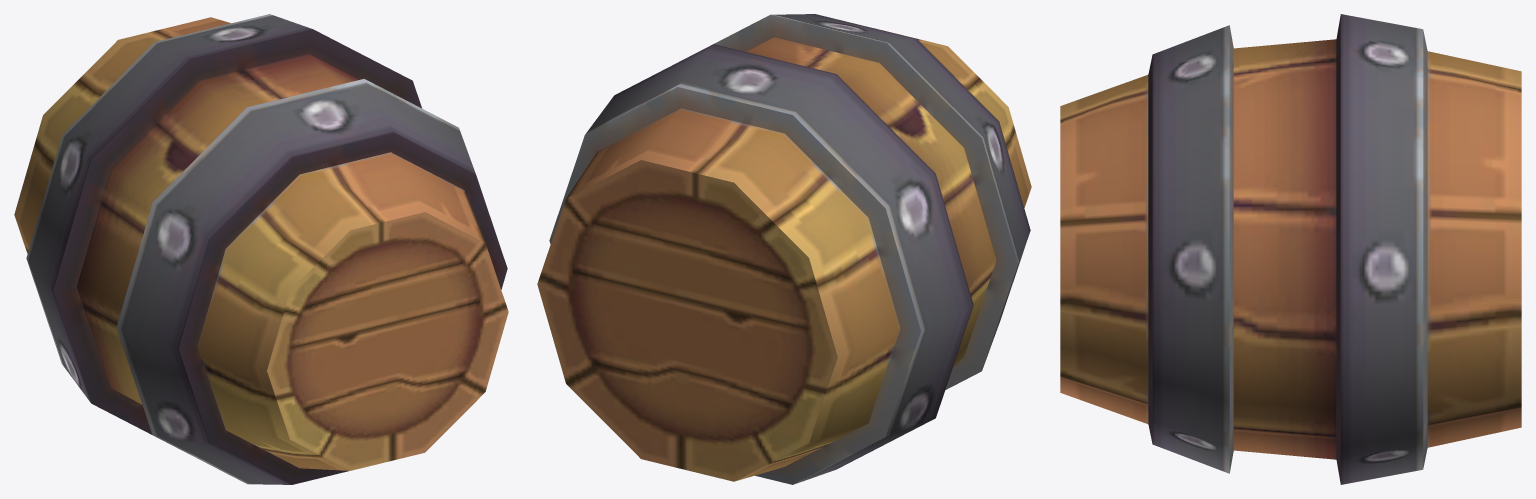
File: Barrel.fbx
3 renders of one model, left to right at view 1: azimuth 30°, elevation 25°; view 2: azimuth 150°, elevation 25°; view 3: azimuth 270°, elevation 25°, orthographic. The views are drawn at different scales.
Parts seen in each view (by area): view 1: Barrel; view 2: Barrel; view 3: Barrel.
Boxes of the visible parts, box(x1,y1,x2,y2) form: Barrel: box(14, 14, 508, 484); Barrel: box(537, 14, 1031, 484); Barrel: box(1060, 14, 1521, 484).
Size of the model in its own units: 67.27 by 63.98 by 65.44.
